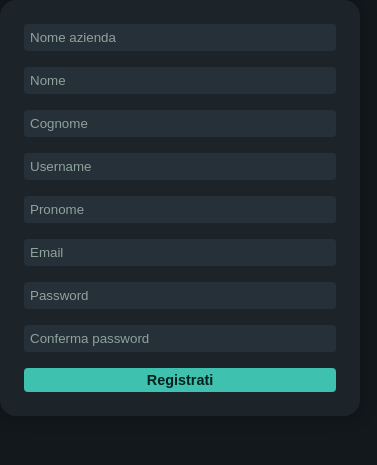
Test: RegisterFormComponent › shows a conflict error message on a 409 response without persisting the session
The width and height of the screenshot is (377, 465).
Type "Acme" into the field with placeholder "Nome azienda" at (180, 38), box x1=24 y1=24 x2=336 y2=51
Type "Mario" into the field with placeholder "Nome" at (180, 80), box x1=24 y1=67 x2=336 y2=94
Type "Rossi" into the field with placeholder "Cognome" at (180, 124), box x1=24 y1=110 x2=336 y2=137
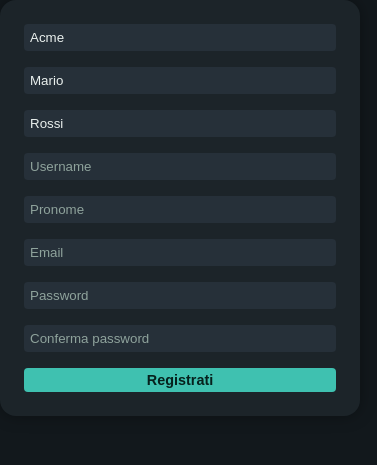
Type "mario" into the field with placeholder "Username" at (180, 166), box x1=24 y1=153 x2=336 y2=180
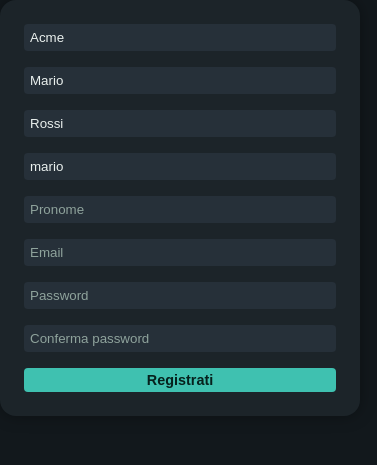
Type "mario@example.com" into the field with placeholder "Email" at (180, 252), box x1=24 y1=239 x2=336 y2=266
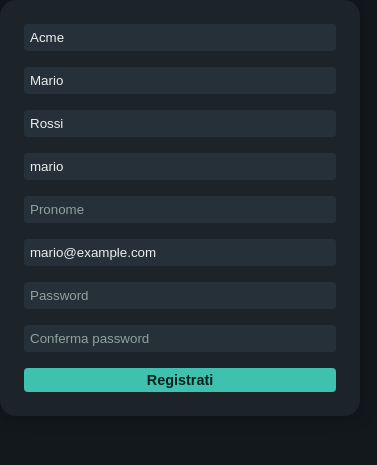
Type "Password1" into the password field with placeholder "Password" at (180, 296), box x1=24 y1=282 x2=336 y2=309
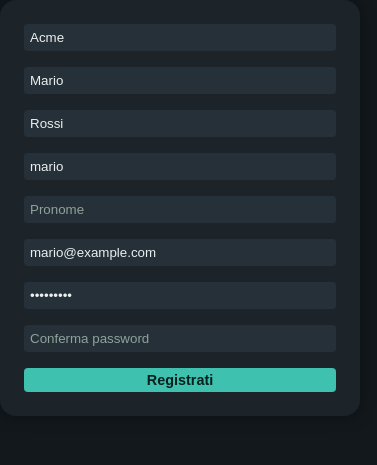
Type "Password1" into the password field with placeholder "Conferma password" at (180, 338), box x1=24 y1=325 x2=336 y2=352
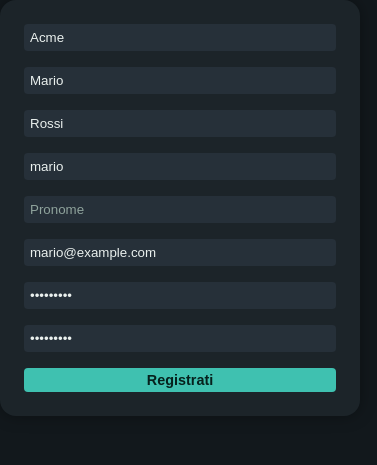
Click the button "Registrati" at (180, 380), box x1=24 y1=368 x2=336 y2=392
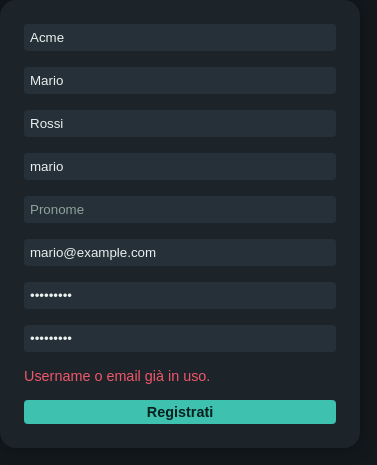
Check: the text "Username o email già in uso." is shown, box x1=24 y1=368 x2=210 y2=384
